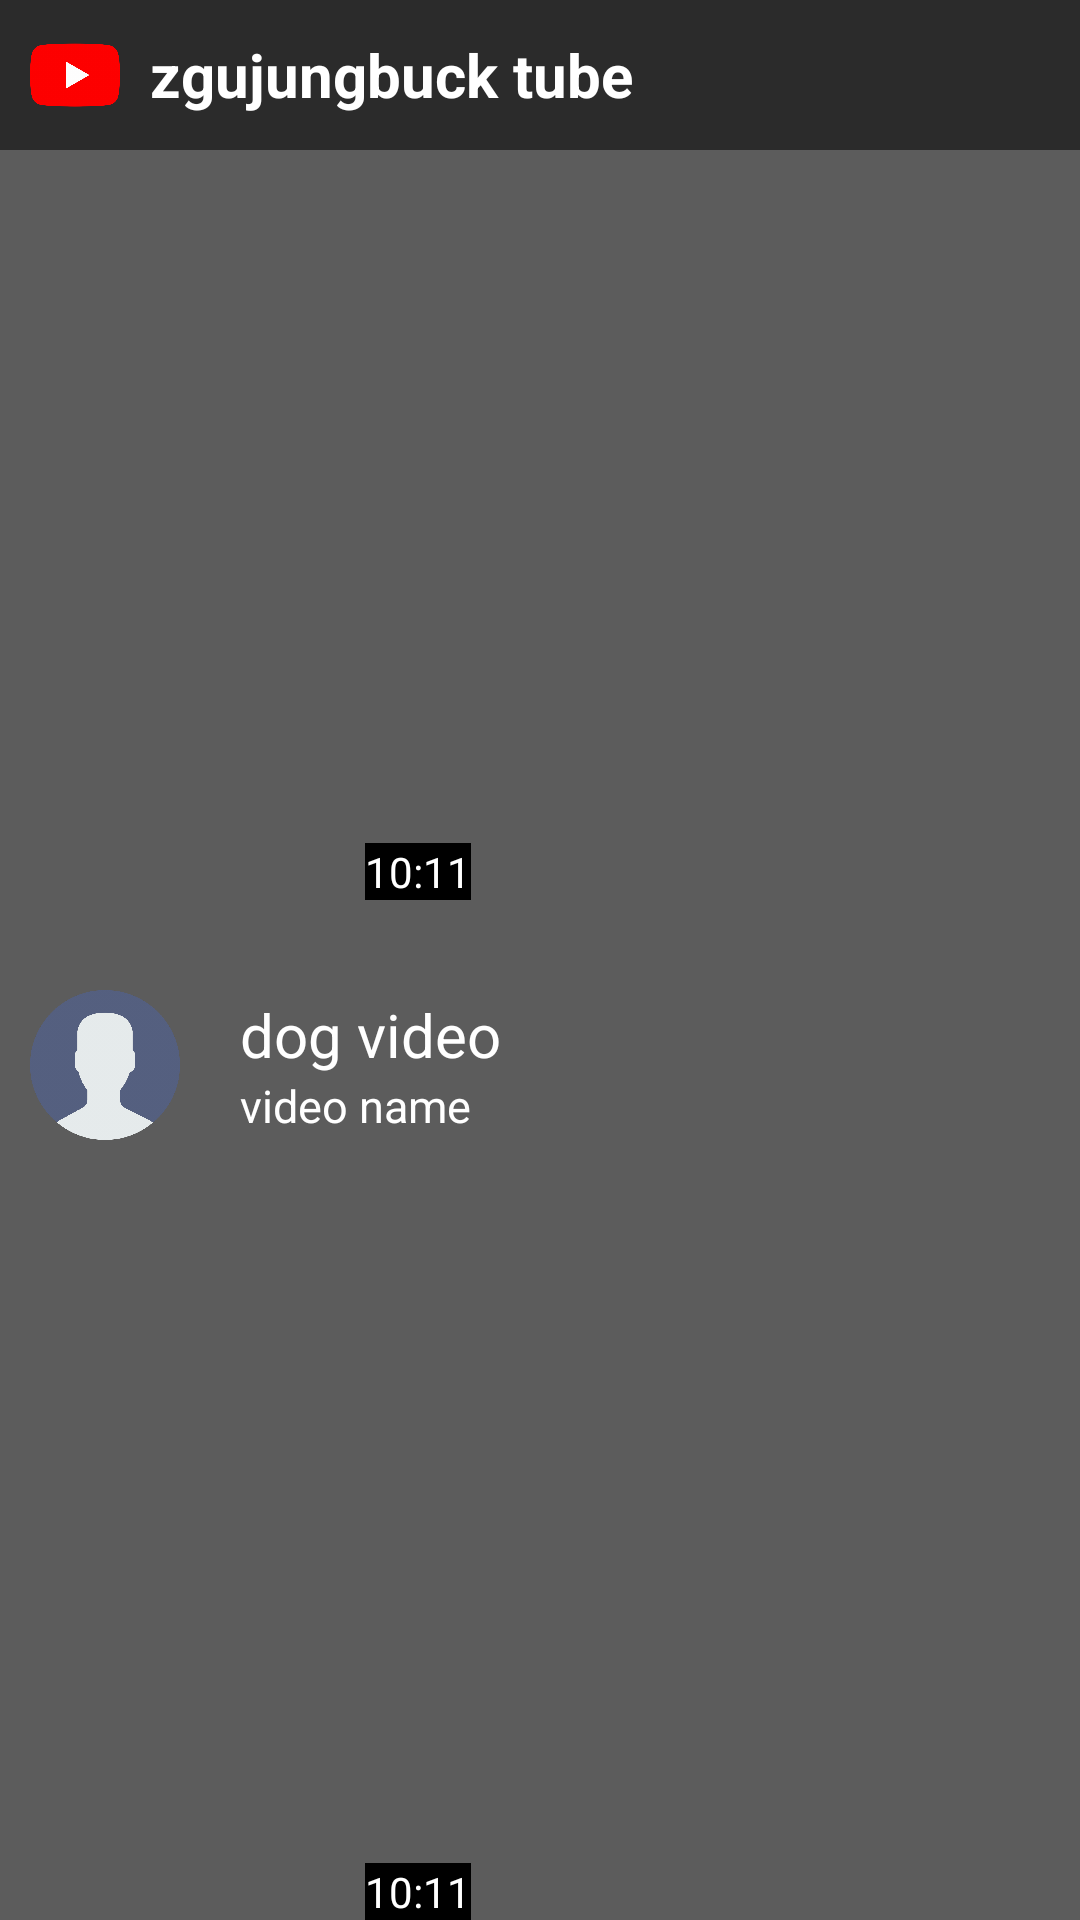

Named icons in this screenshot (1080 × 1920) and their bounding boxes, (x1, y1, x2, y2):
user: (30, 990, 180, 1140)
